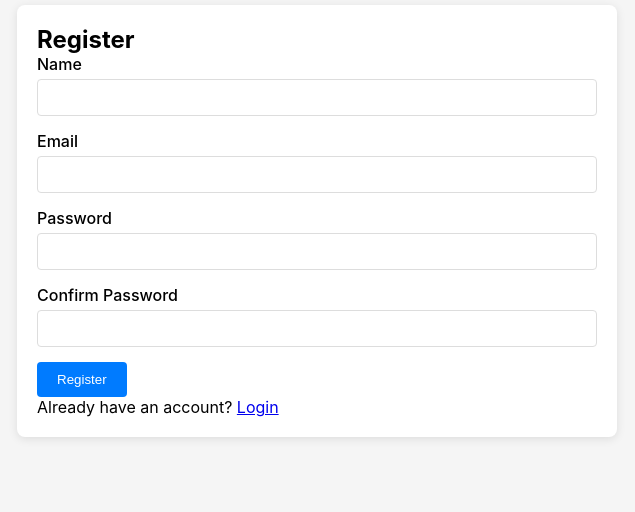
Scenario: Authentication E2E Tests › User Registration › should show error when passwords do not match
This screenshot has width=635, height=512.
Type "Jane Doe" into the field named "name".
click(317, 98); type("Jane Doe")  # box [37, 79, 597, 116]
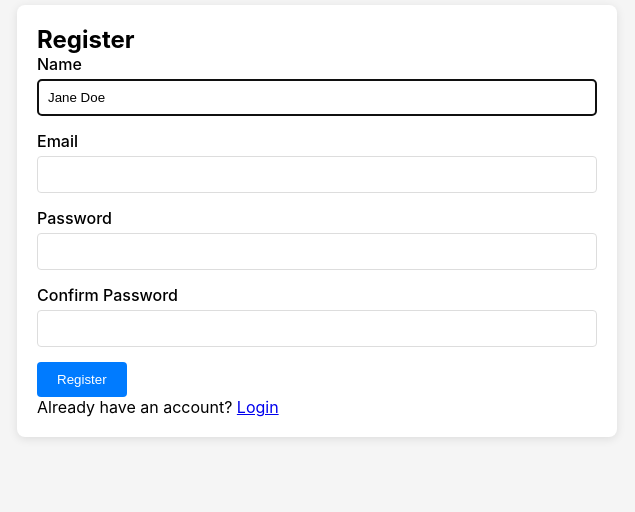
Type "jane@example.com" into the field named "email".
click(317, 175); type("jane@example.com")  # box [37, 156, 597, 193]
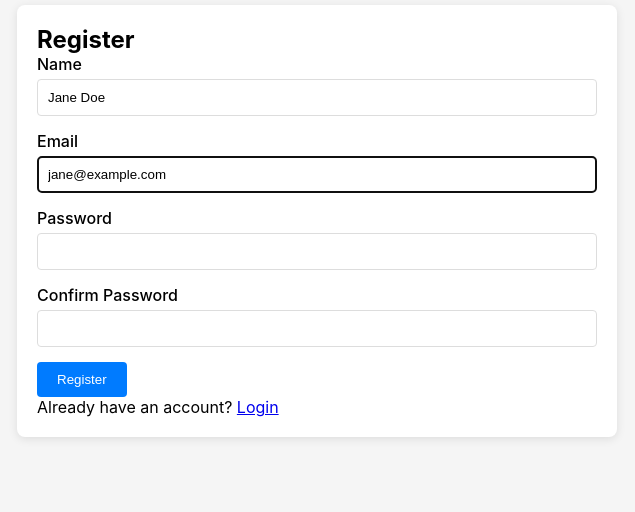
Type "password123" into the password field named "password".
click(317, 252); type("password123")  # box [37, 233, 597, 270]
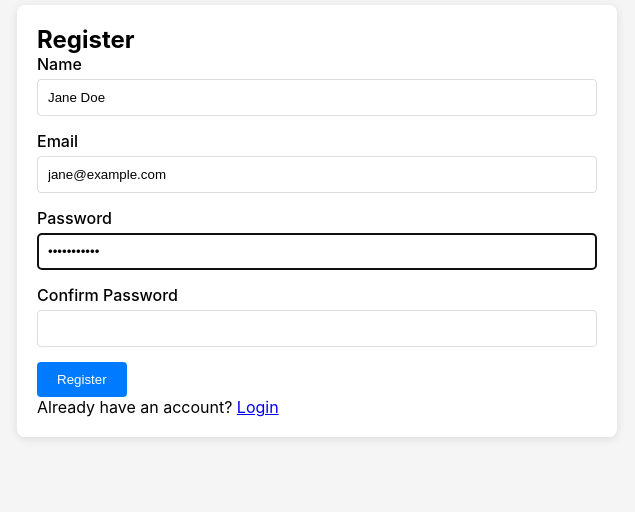
Type "different" into the password field named "confirmPassword".
click(317, 329); type("different")  # box [37, 310, 597, 347]
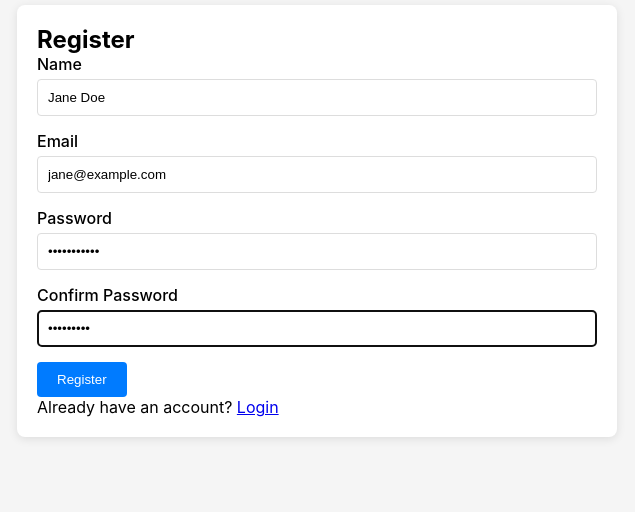
Click the submit button.
click(82, 380)  # box [37, 362, 127, 397]
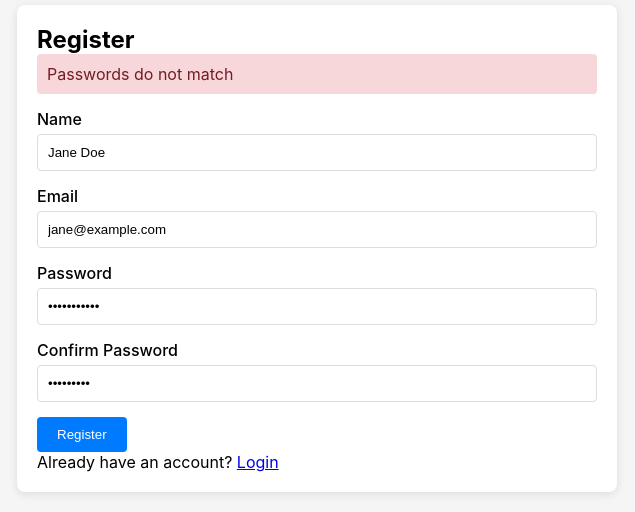
Check: the message "Passwords do not match" is shown, box [37, 54, 597, 94]
